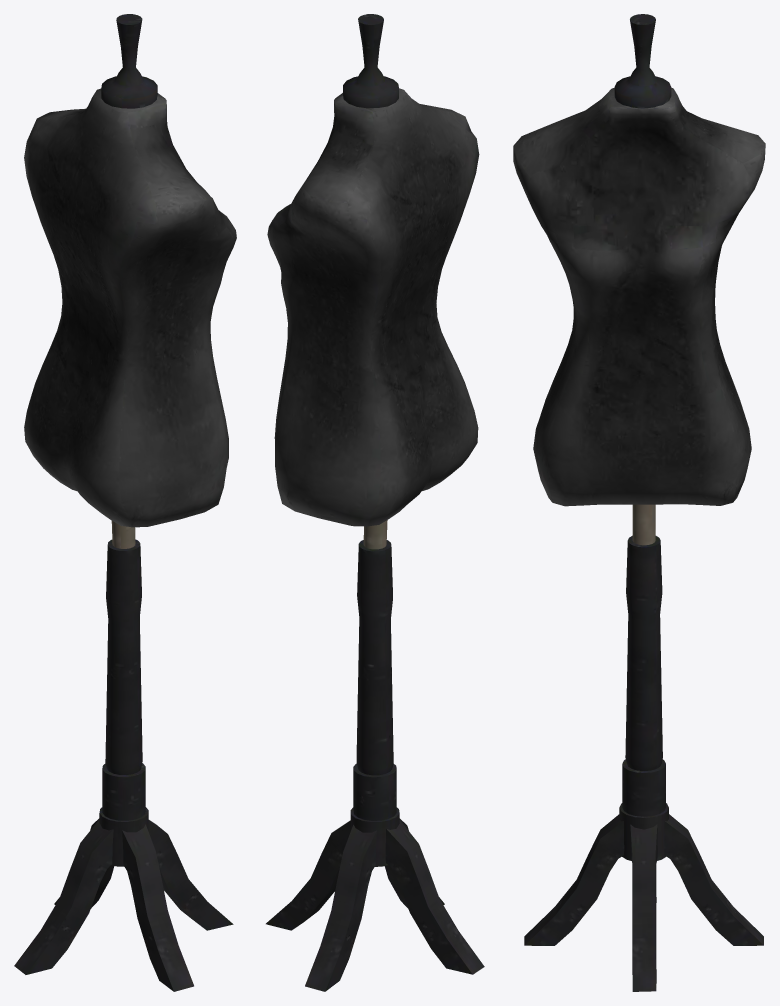
File: dressForm.glb
3 renders of one model, left to right at view 1: azimuth 30°, elevation 25°; view 2: azimuth 150°, elevation 25°; view 3: azimuth 270°, elevation 25°, orthographic.
Visible parts, largest first — view 1: SM_Manken_0; view 2: SM_Manken_0; view 3: SM_Manken_0.
Part boxes in pixels (x1=…): SM_Manken_0: x1=14, y1=14, x2=236, y2=991; SM_Manken_0: x1=266, y1=14, x2=484, y2=991; SM_Manken_0: x1=513, y1=14, x2=765, y2=991.
Size of the model in its own units: 0.3916 by 1.67 by 0.4123.
1 material, 1 textured.
